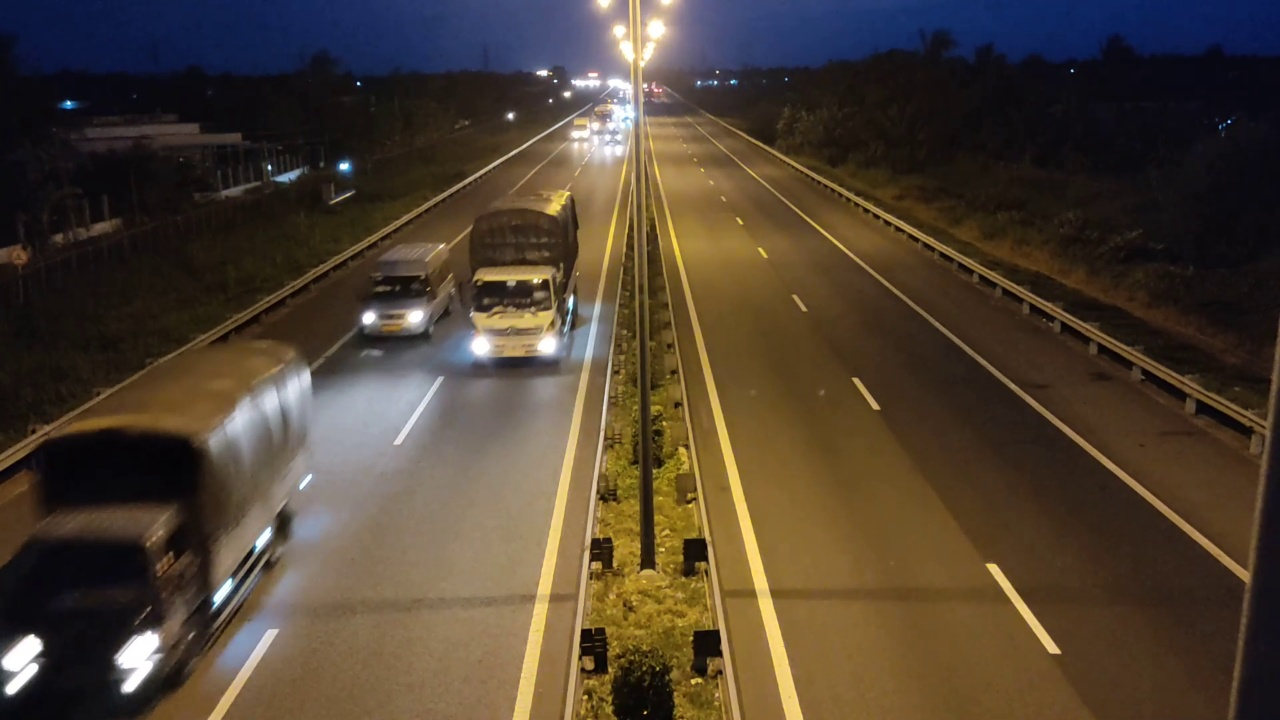car: (357, 237, 458, 346)
truck: (1, 334, 317, 713), (464, 189, 579, 366)
